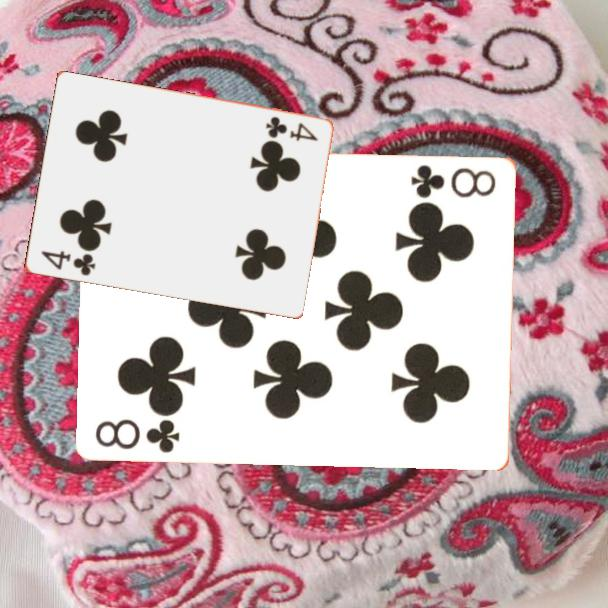c04: (37, 247, 98, 279), (262, 113, 320, 144)
c08: (408, 160, 499, 201), (92, 415, 183, 455)
